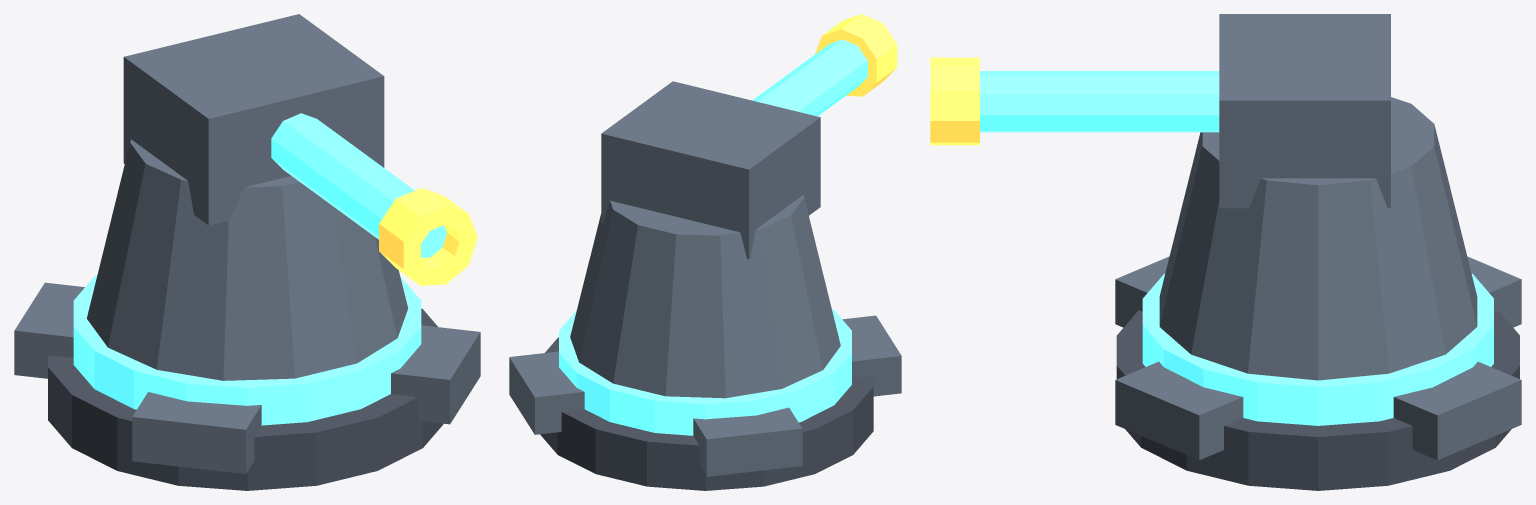
The model's file is AXM-TURRET-001_LOD2.glb.
3 renders of one model, left to right at view 1: azimuth 30°, elevation 25°; view 2: azimuth 150°, elevation 25°; view 3: azimuth 270°, elevation 25°, orthographic. The views are drawn at different scales.
Parts seen in each view (by area): view 1: body, head, base, rotation_ring, barrel, stabilizer__r02, muzzle, stabilizer__r03, stabilizer__r01; view 2: body, head, base, rotation_ring, stabilizer__r01, barrel, stabilizer__r00, stabilizer__r02, muzzle; view 3: body, head, base, barrel, rotation_ring, stabilizer__r00, stabilizer__r03, muzzle, stabilizer__r01, stabilizer__r02.
Part boxes in pixels (x1=…): body: x1=87, y1=139, x2=408, y2=380; head: x1=123, y1=14, x2=384, y2=225; base: x1=48, y1=308, x2=443, y2=490; rotation_ring: x1=73, y1=275, x2=421, y2=425; barrel: x1=271, y1=113, x2=446, y2=257; stabilizer__r02: x1=132, y1=392, x2=261, y2=474; muzzle: x1=379, y1=188, x2=477, y2=285; stabilizer__r03: x1=391, y1=325, x2=480, y2=424; stabilizer__r01: x1=14, y1=282, x2=84, y2=378; body: x1=570, y1=195, x2=840, y2=398; head: x1=601, y1=81, x2=820, y2=259; base: x1=540, y1=337, x2=873, y2=490; rotation_ring: x1=559, y1=309, x2=851, y2=435; stabilizer__r01: x1=693, y1=407, x2=802, y2=476; barrel: x1=752, y1=39, x2=867, y2=116; stabilizer__r00: x1=509, y1=351, x2=584, y2=434; stabilizer__r02: x1=842, y1=315, x2=901, y2=396; muzzle: x1=815, y1=14, x2=897, y2=96; body: x1=1159, y1=97, x2=1477, y2=380; head: x1=1219, y1=14, x2=1390, y2=208; base: x1=1116, y1=310, x2=1519, y2=490; barrel: x1=980, y1=71, x2=1219, y2=132; rotation_ring: x1=1142, y1=273, x2=1493, y2=425; stabilizer__r00: x1=1393, y1=361, x2=1521, y2=460; stabilizer__r03: x1=1115, y1=361, x2=1243, y2=460; muzzle: x1=930, y1=57, x2=979, y2=145; stabilizer__r01: x1=1467, y1=256, x2=1521, y2=327; stabilizer__r02: x1=1115, y1=256, x2=1169, y2=327.
Size of the model in its own units: 1.24 by 1.16 by 1.79.
